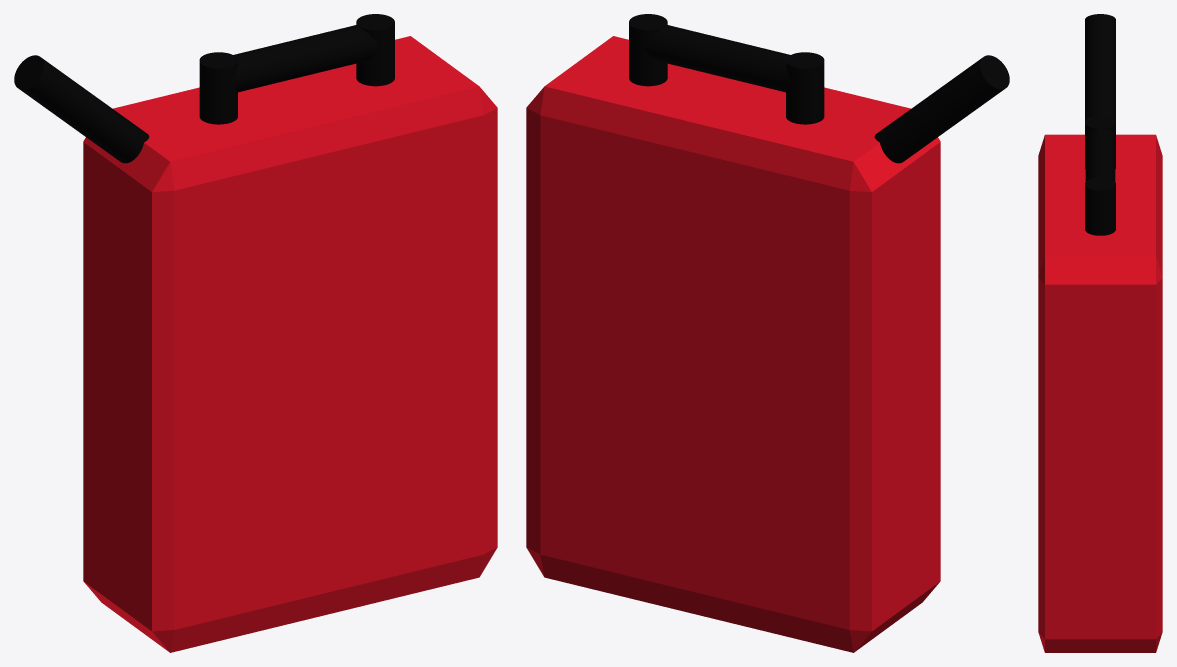
File: canister.glb
3 views of the same model, side by side, from view 1: azimuth 30°, elevation 25°; view 2: azimuth 150°, elevation 25°; view 3: azimuth 270°, elevation 25° (orthographic). The views are drawn at different scales.
Visible parts, largest first — view 1: Cube, Cylinder.003, Cylinder.002, Cylinder.001, Cylinder; view 2: Cube, Cylinder.003, Cylinder.002, Cylinder.001, Cylinder; view 3: Cube, Cylinder.003, Cylinder, Cylinder.002, Cylinder.001.
Part boxes in pixels (x1,y1,x2,y2): Cube: (83,36,497,652); Cylinder.003: (14,55,149,163); Cylinder.002: (233,25,379,92); Cylinder.001: (199,52,237,124); Cylinder: (356,14,394,86); Cube: (526,36,940,652); Cylinder.003: (874,55,1009,163); Cylinder.002: (644,25,790,92); Cylinder.001: (786,52,824,124); Cylinder: (629,14,667,86); Cube: (1038,134,1162,652); Cylinder.003: (1085,14,1115,120); Cylinder: (1085,177,1115,235); Cylinder.002: (1085,129,1115,181); Cylinder.001: (1085,115,1115,168).
Size of the model in its own units: 2.58 by 3.28 by 0.7716.
